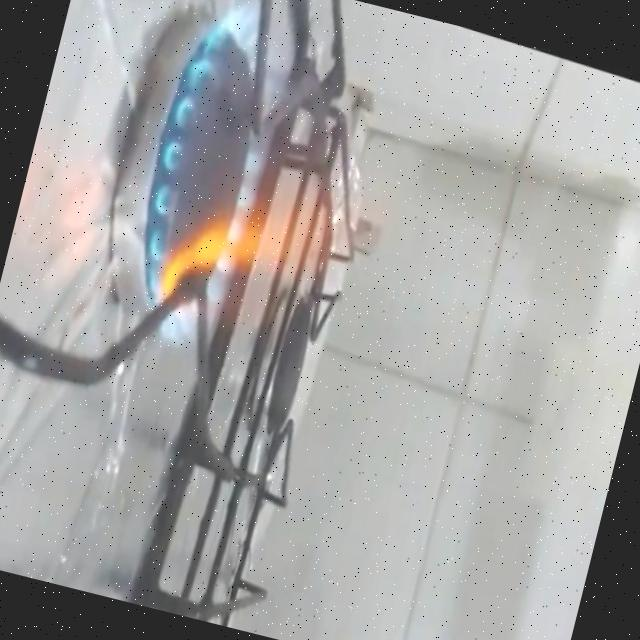fire: (89, 0, 440, 411)
